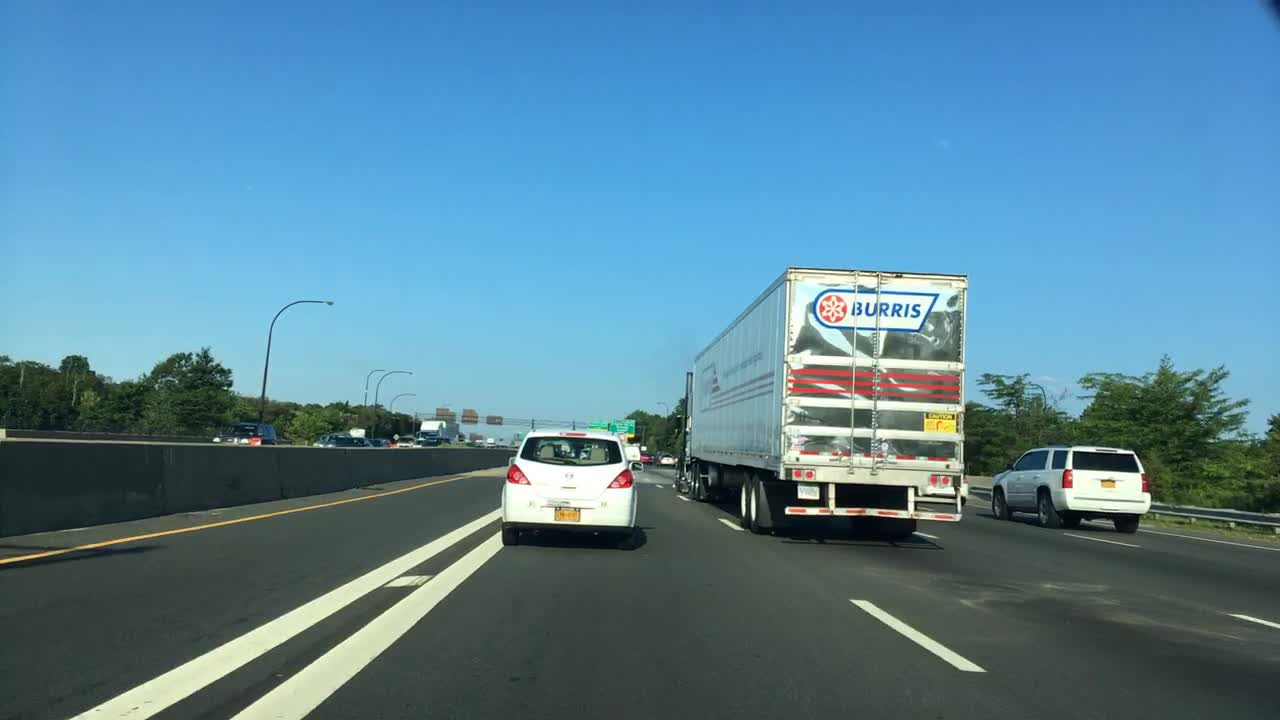car: (500, 426, 640, 544), (989, 443, 1151, 533), (210, 421, 277, 444), (326, 430, 379, 450), (418, 433, 455, 449), (656, 451, 679, 468), (367, 434, 393, 448), (625, 445, 641, 466), (394, 433, 418, 446), (641, 450, 658, 468), (473, 437, 487, 444), (458, 436, 471, 443)
traffic sign: (608, 419, 635, 435), (433, 408, 456, 421), (460, 409, 478, 425), (589, 421, 607, 431), (485, 413, 502, 423)
truck: (673, 264, 968, 542), (418, 417, 460, 434)
